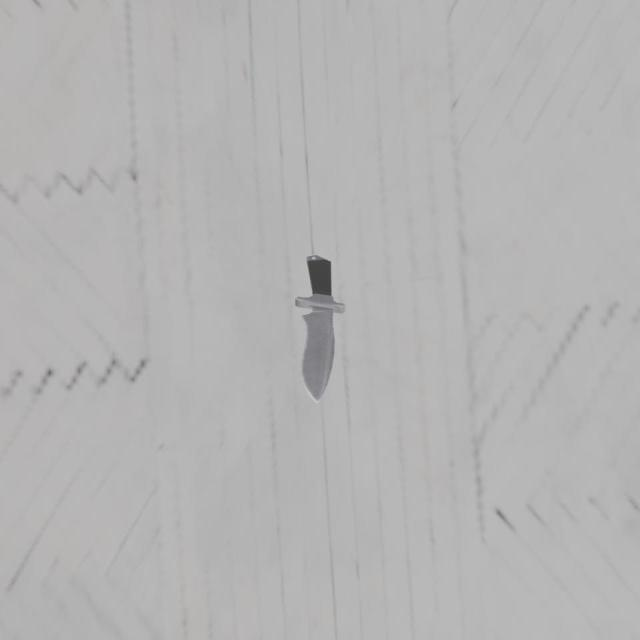knife: (305, 246, 332, 302)
